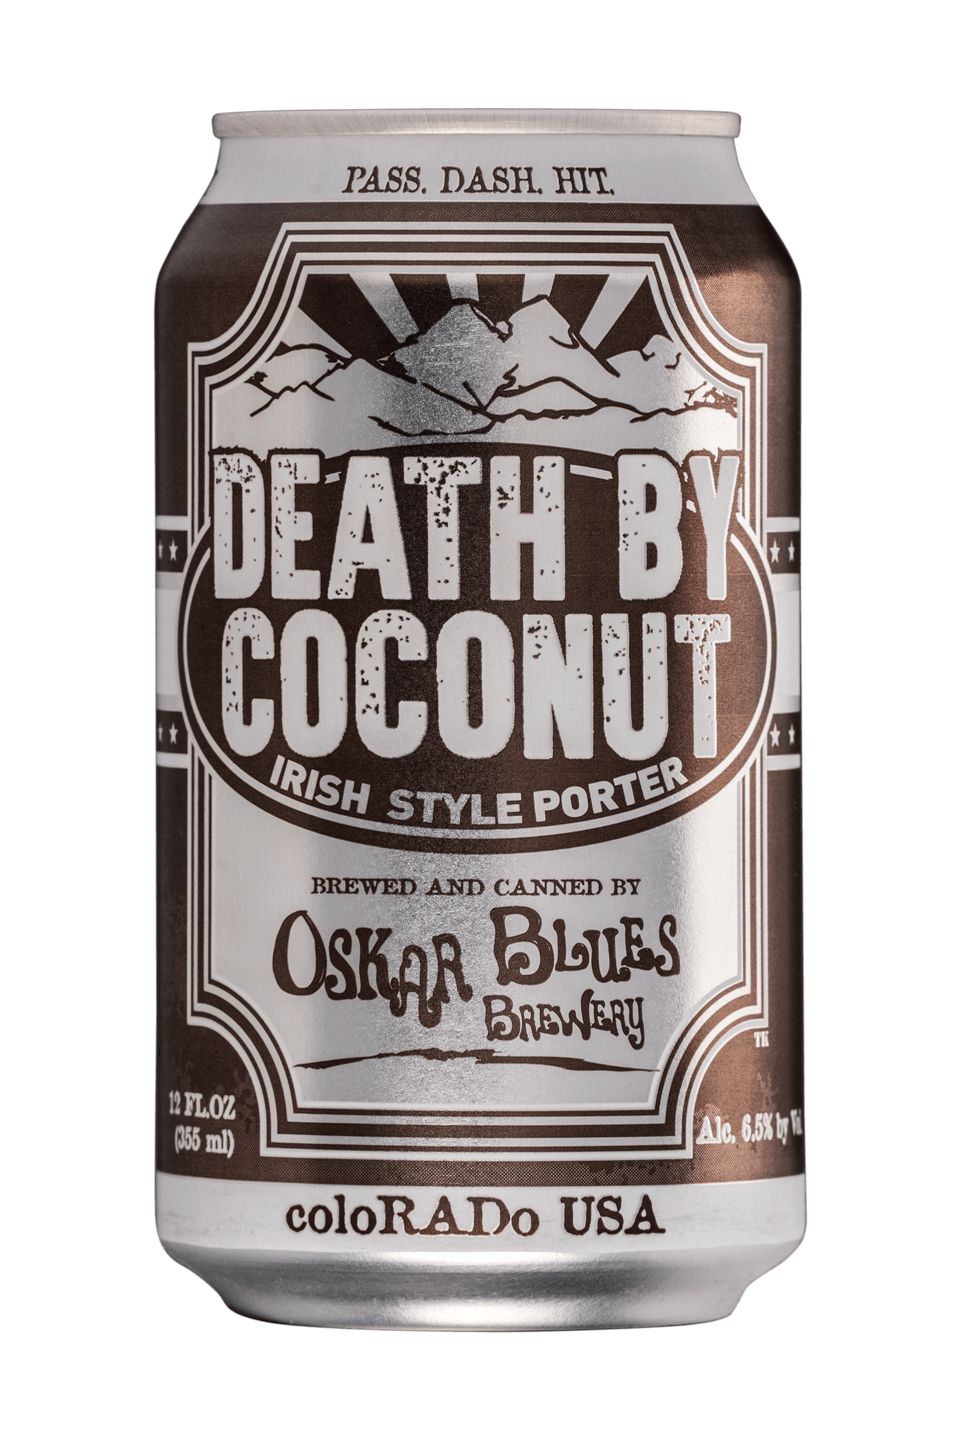beer can: (136, 93, 817, 1342)
